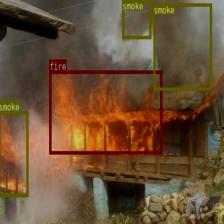fire: (49, 70, 162, 153)
smoke: (153, 3, 212, 90), (0, 110, 28, 196), (121, 0, 150, 38)
